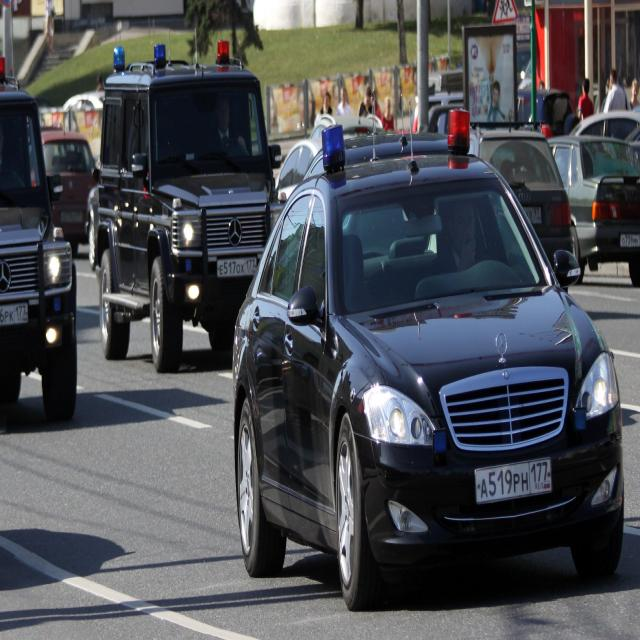number-plates: (474, 453, 553, 516), (216, 254, 258, 283), (0, 300, 30, 328)
